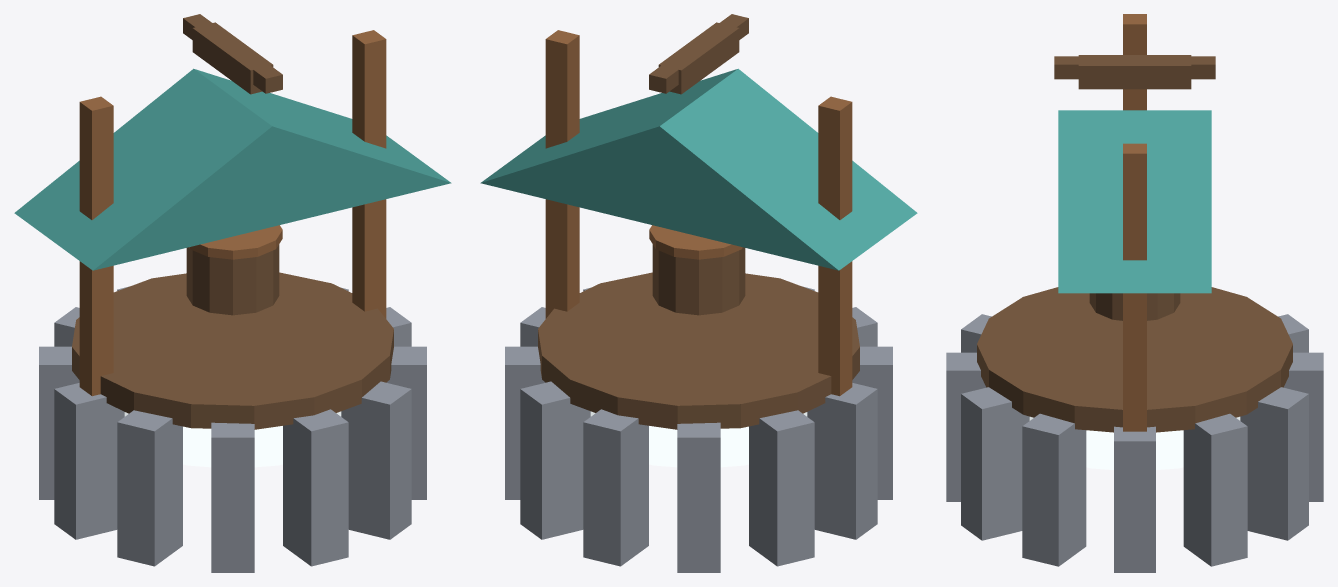
File: xy_isle_well.glb
The picture shows the model from 3 angles, left to right: view 1: azimuth 30°, elevation 25°; view 2: azimuth 150°, elevation 25°; view 3: azimuth 270°, elevation 25°; orthographic projection. The views are drawn at different scales.
Visible parts, largest first — view 1: Well; view 2: Well; view 3: Well.
Part boxes in pixels (box(x1,y1,x2,y2)): Well: box(14, 14, 451, 572); Well: box(480, 14, 917, 572); Well: box(946, 14, 1323, 572).
Size of the model in its own units: 2.5 by 2.96 by 2.34.
